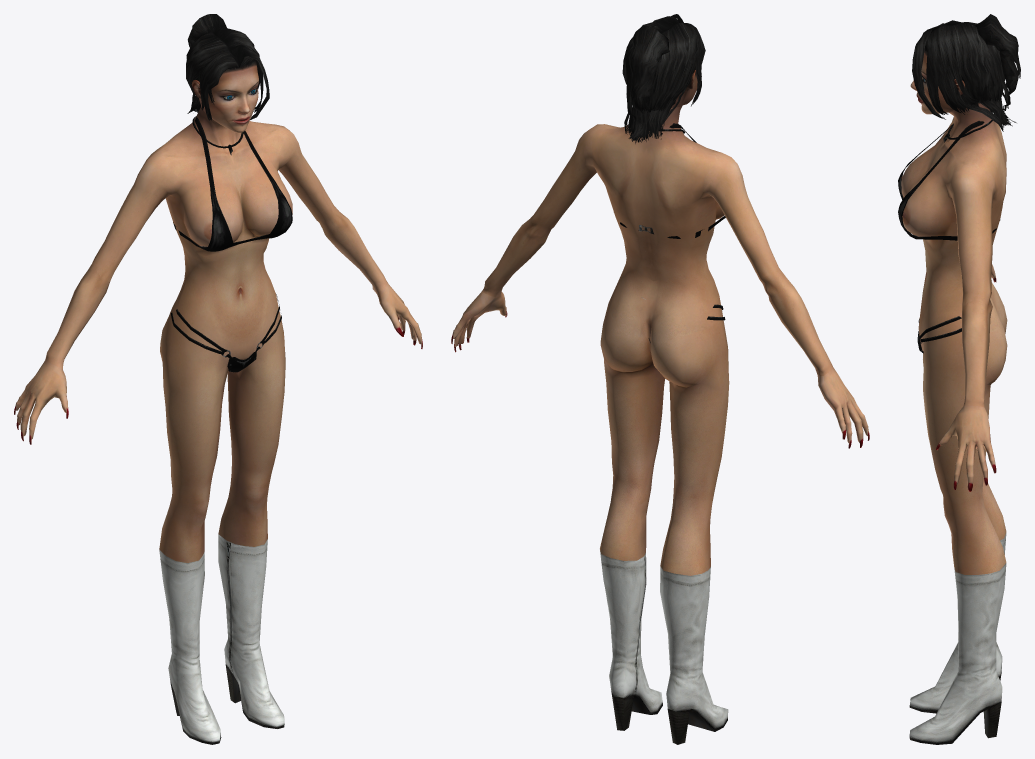
File: elexis.fbx
3 views of the same model, side by side, from view 1: azimuth 30°, elevation 25°; view 2: azimuth 150°, elevation 25°; view 3: azimuth 270°, elevation 25° (orthographic). The views are drawn at different scales.
Parts seen in each view (by area): view 1: NudeEL_Nude__Elexis_reference_smd_mesh_16, NudeEL_Nude__Elexis_reference_smd_mesh_17, NudeEL_Nude__Elexis_reference_smd_mesh_18, NudeEL_Nude__Elexis_reference_smd_mesh_10, NudeEL_Nude__Elexis_reference_smd_mesh_13; view 2: NudeEL_Nude__Elexis_reference_smd_mesh_16, NudeEL_Nude__Elexis_reference_smd_mesh_17, NudeEL_Nude__Elexis_reference_smd_mesh_18; view 3: NudeEL_Nude__Elexis_reference_smd_mesh_16, NudeEL_Nude__Elexis_reference_smd_mesh_17, NudeEL_Nude__Elexis_reference_smd_mesh_18, NudeEL_Nude__Elexis_reference_smd_mesh_10, NudeEL_Nude__Elexis_reference_smd_mesh_13.
Part boxes in pixels (x1=…): NudeEL_Nude__Elexis_reference_smd_mesh_16: x1=14, y1=106, x2=422, y2=562; NudeEL_Nude__Elexis_reference_smd_mesh_17: x1=159, y1=534, x2=284, y2=744; NudeEL_Nude__Elexis_reference_smd_mesh_18: x1=186, y1=14, x2=269, y2=120; NudeEL_Nude__Elexis_reference_smd_mesh_10: x1=171, y1=117, x2=292, y2=372; NudeEL_Nude__Elexis_reference_smd_mesh_13: x1=191, y1=60, x2=258, y2=133; NudeEL_Nude__Elexis_reference_smd_mesh_16: x1=451, y1=105, x2=869, y2=575; NudeEL_Nude__Elexis_reference_smd_mesh_17: x1=600, y1=550, x2=728, y2=744; NudeEL_Nude__Elexis_reference_smd_mesh_18: x1=622, y1=14, x2=705, y2=143; NudeEL_Nude__Elexis_reference_smd_mesh_16: x1=901, y1=103, x2=1007, y2=574; NudeEL_Nude__Elexis_reference_smd_mesh_17: x1=909, y1=533, x2=1006, y2=744; NudeEL_Nude__Elexis_reference_smd_mesh_18: x1=912, y1=14, x2=1020, y2=131; NudeEL_Nude__Elexis_reference_smd_mesh_10: x1=898, y1=120, x2=1000, y2=353; NudeEL_Nude__Elexis_reference_smd_mesh_13: x1=910, y1=48, x2=979, y2=114.
Bounding box in the file's own units: 0.8377 × 1.41 × 0.2215.
